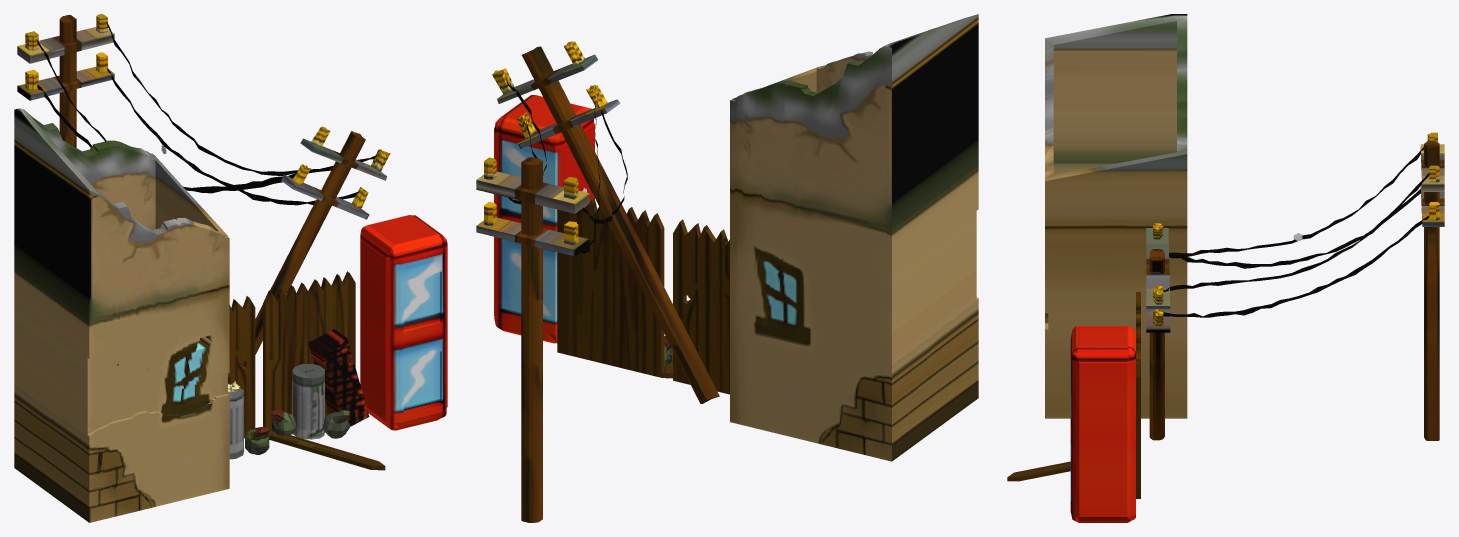
The picture shows the model from 3 angles, left to right: view 1: azimuth 30°, elevation 25°; view 2: azimuth 150°, elevation 25°; view 3: azimuth 270°, elevation 25°; orthographic projection. The views are drawn at different scales.
Parts seen in each view (by area): view 1: Scene; view 2: Scene; view 3: Scene.
Part boxes in pixels (x1,y1,x2,y2): Scene: (14,14,447,522); Scene: (476,14,978,522); Scene: (1007,14,1444,522).
Bounding box in the file's own units: 532 × 490 × 565.
Materials: 1 (1 with a texture image).
